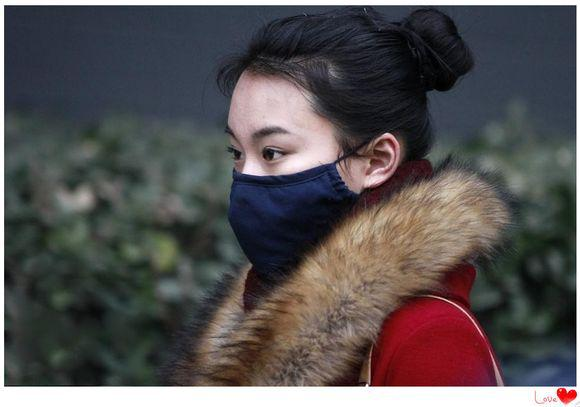OK: (226, 112, 365, 262)
